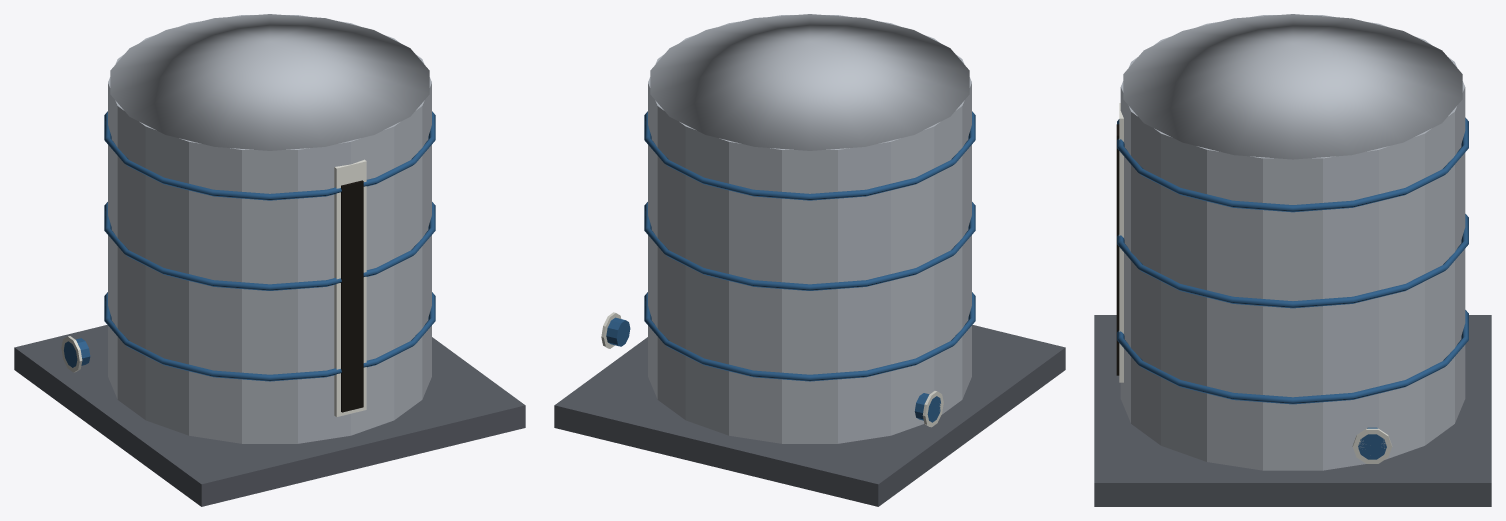
Rendered from LiquidTank.fbx.
3 views of the same model, side by side, from view 1: azimuth 30°, elevation 25°; view 2: azimuth 150°, elevation 25°; view 3: azimuth 270°, elevation 25° (orthographic). The views are drawn at different scales.
Visible parts, largest first — view 1: LiquidTank_Body, LiquidTank_Level_Full; view 2: LiquidTank_Body; view 3: LiquidTank_Body, LiquidTank_Level_Full.
Boxes of the visible parts, <box> form: LiquidTank_Body: <box>14,14,525,506</box>; LiquidTank_Level_Full: <box>341,180,363,411</box>; LiquidTank_Body: <box>554,14,1065,506</box>; LiquidTank_Body: <box>1094,14,1491,506</box>; LiquidTank_Level_Full: <box>1116,124,1119,286</box>.
Bounding box in the file's own units: 1.5 × 1.58 × 1.5.
